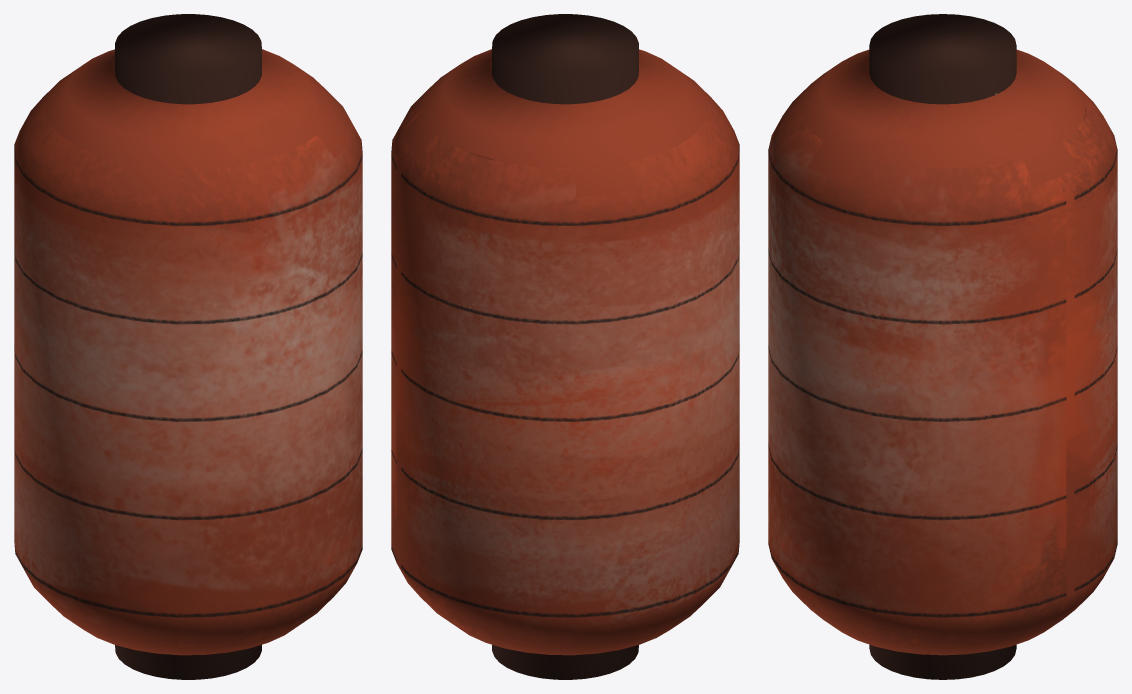
File: lamp01.fbx
The picture shows the model from 3 angles, left to right: view 1: azimuth 30°, elevation 25°; view 2: azimuth 150°, elevation 25°; view 3: azimuth 270°, elevation 25°; orthographic projection.
Parts seen in each view (by area): view 1: Cylinder.092; view 2: Cylinder.092; view 3: Cylinder.092.
Part boxes in pixels (left/top/right/bottom): Cylinder.092: left=14, top=14, right=362, bottom=679; Cylinder.092: left=391, top=14, right=739, bottom=679; Cylinder.092: left=768, top=14, right=1117, bottom=679.
Size of the model in its own units: 200 by 382 by 200.
1 material, 1 textured.
